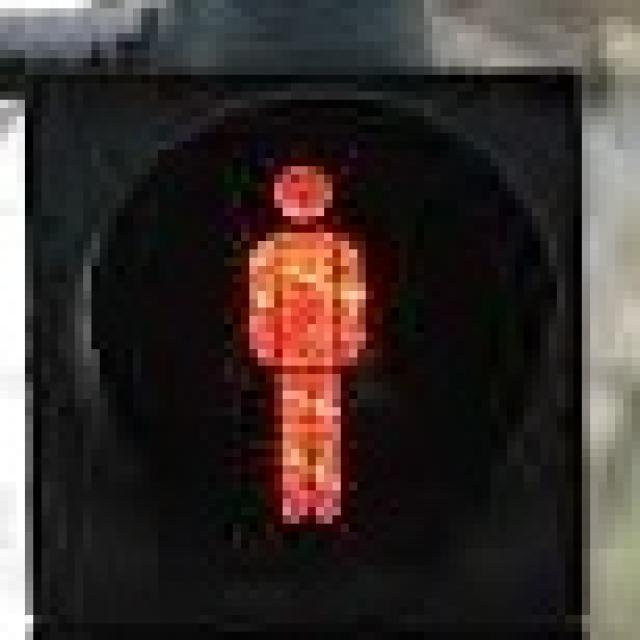red_light: (183, 117, 399, 540)
